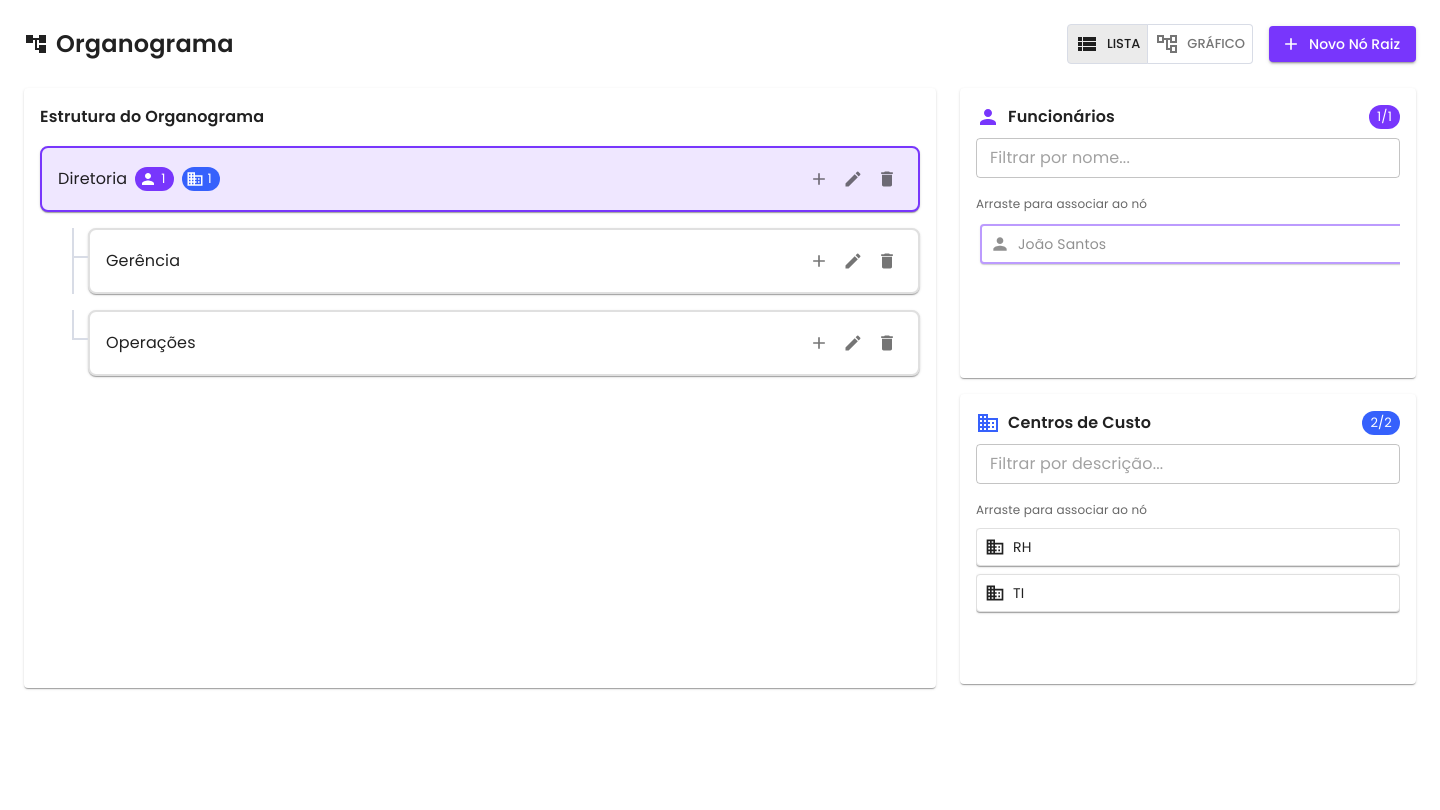
Test case: Organograma page › opens create child dialog from add button
This screenshot has width=1440, height=810.
Check: the heading "Diretoria" is shown, box [58, 165, 127, 193]
Click the button titled "Adicionar filho" in the row of "Diretoria" at (819, 179), box [804, 164, 834, 194]
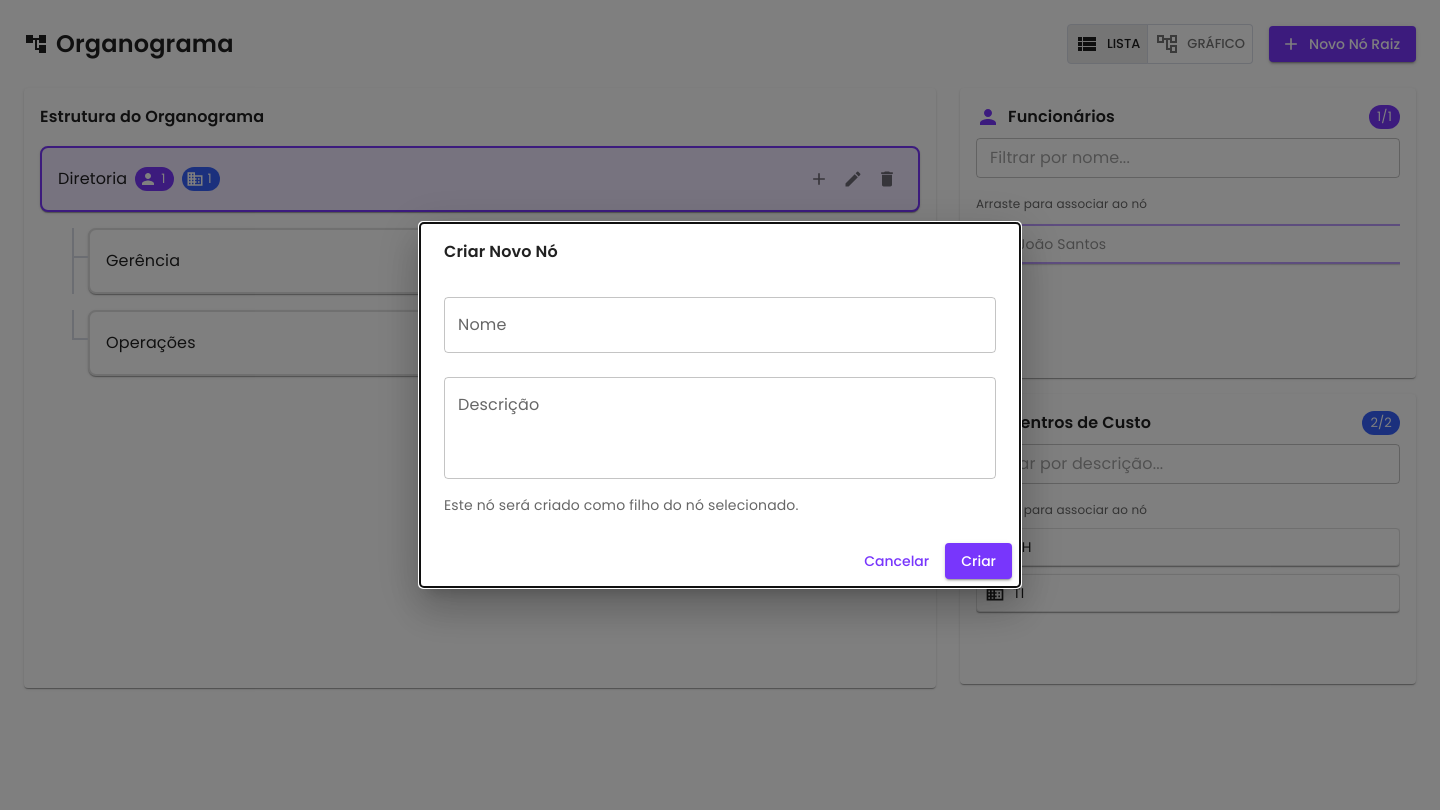
Check: the heading "Criar Novo Nó" is shown, box [444, 240, 558, 263]
Check: the text "Este nó será criado como filho do nó selecionado." is shown, box [444, 494, 799, 514]
